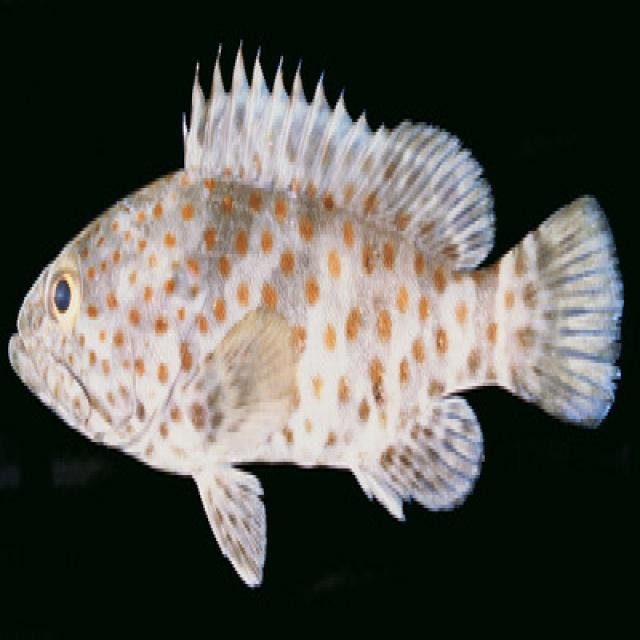ikan: (6, 36, 624, 588)
